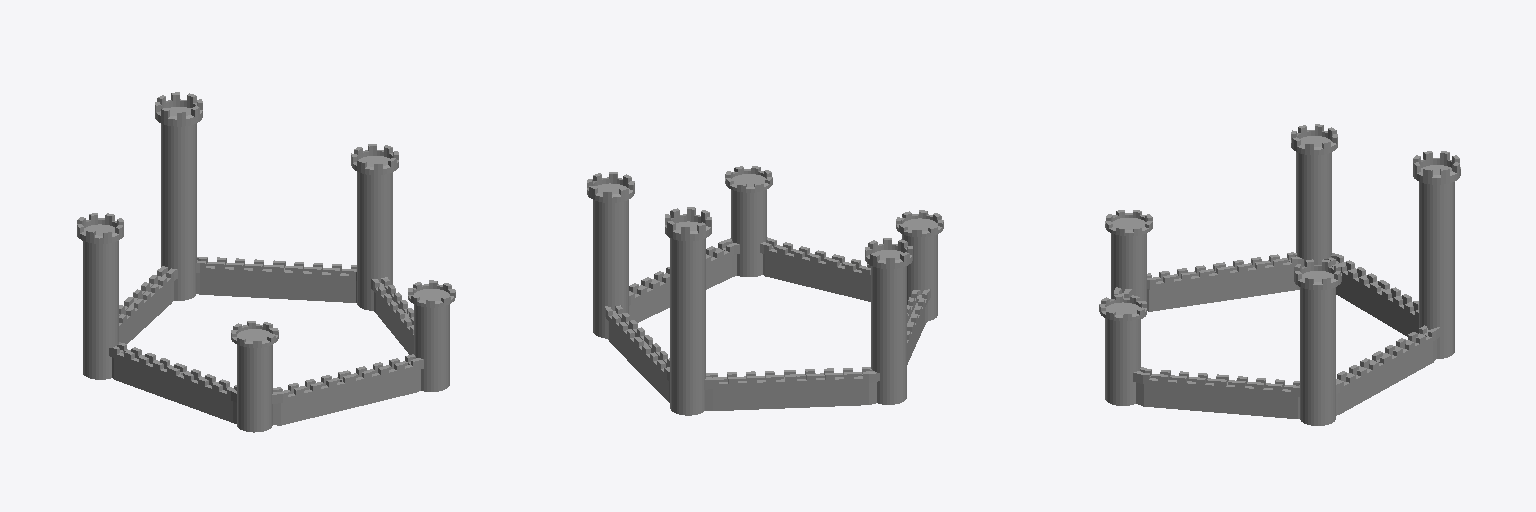
The model's file is castle.obj.
3 renders of one model, left to right at view 1: azimuth 30°, elevation 25°; view 2: azimuth 150°, elevation 25°; view 3: azimuth 270°, elevation 25°, orthographic.
Visible parts, largest first — view 1: Cylinder.001_Cylinder.011; view 2: Cylinder.001_Cylinder.011; view 3: Cylinder.001_Cylinder.011.
Part boxes in pixels (x1,y1,x2,y2): Cylinder.001_Cylinder.011: (77,92,455,432); Cylinder.001_Cylinder.011: (587,166,943,415); Cylinder.001_Cylinder.011: (1099,124,1460,425).
Size of the model in its own units: 9.33 by 5.38 by 9.19.